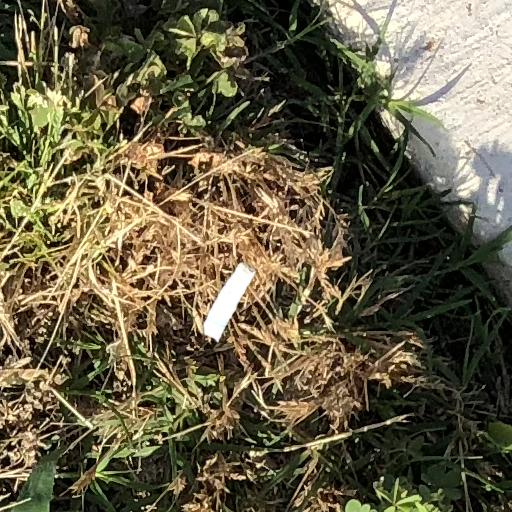smoke: (204, 263, 255, 341)
